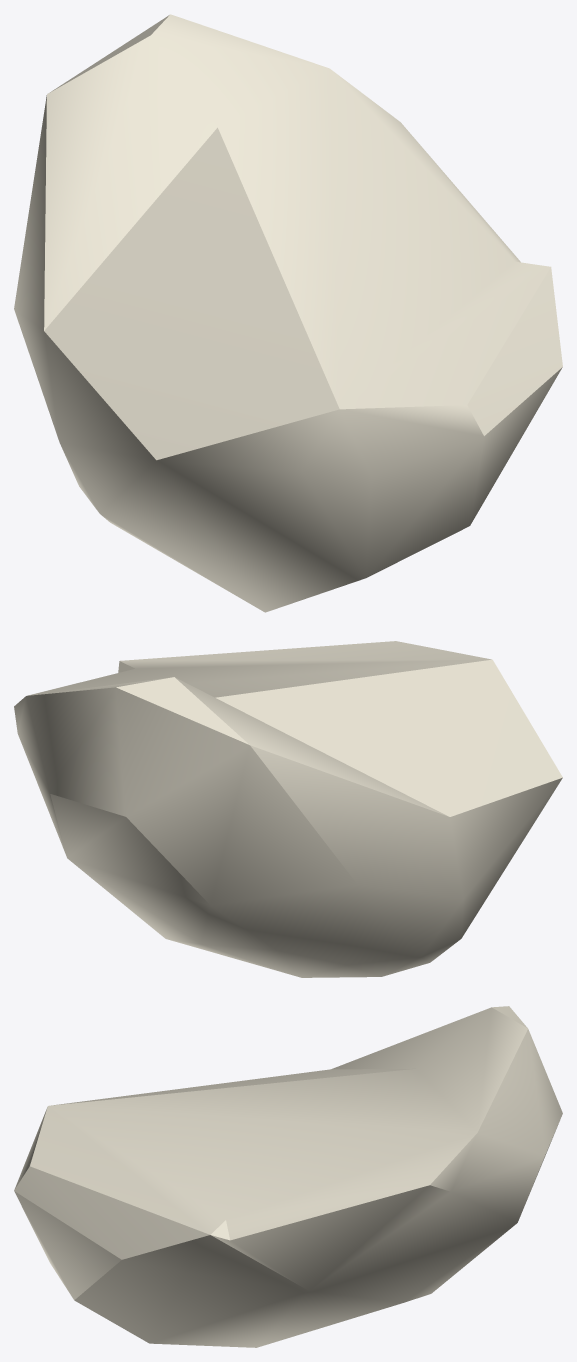
The model's file is fma45097_fj1228.glb.
3 renders of one model, top to bottom at view 1: azimuth 30°, elevation 25°; view 2: azimuth 150°, elevation 25°; view 3: azimuth 270°, elevation 25°, orthographic. The views are drawn at different scales.
Parts seen in each view (by area): view 1: FMA45097_FJ1228; view 2: FMA45097_FJ1228; view 3: FMA45097_FJ1228.
Boxes of the visible parts, bbox=[...] form: FMA45097_FJ1228: bbox=[14, 14, 562, 612]; FMA45097_FJ1228: bbox=[14, 641, 562, 977]; FMA45097_FJ1228: bbox=[14, 1006, 562, 1347].
Bounding box in the file's own units: 0.0071 × 0.0062 × 0.00929.
